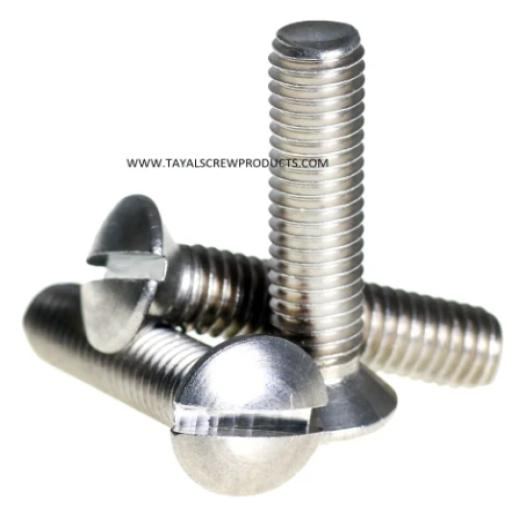Slotted: (171, 339, 326, 500)
